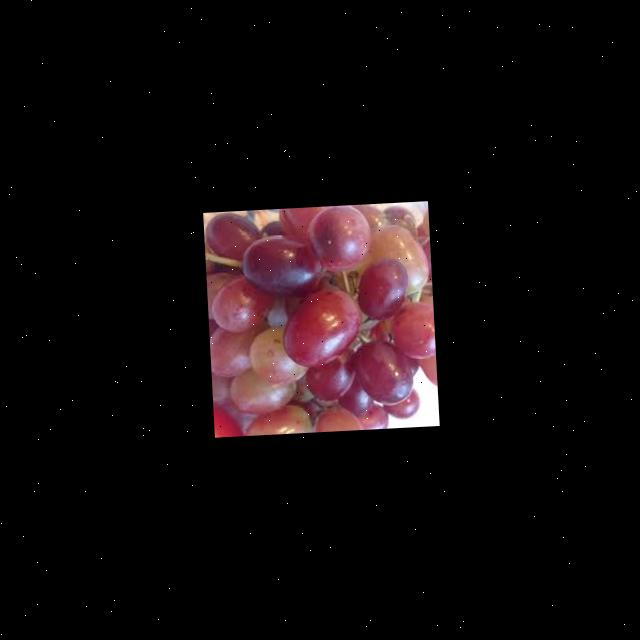grape: (203, 202, 438, 437)
